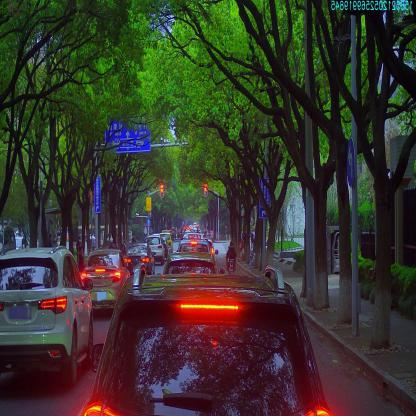traffic-light: (204, 182, 208, 196), (161, 184, 164, 197)
